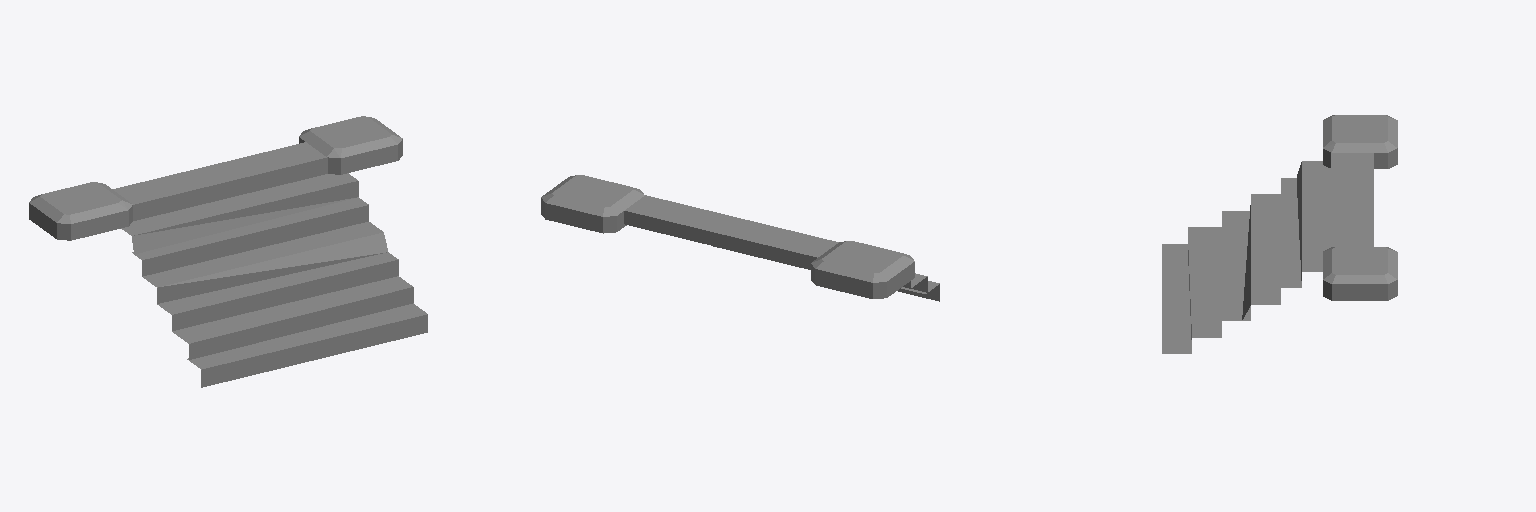
Rendered from StairsUp.obj.
The picture shows the model from 3 angles: view 1: azimuth 30°, elevation 25°; view 2: azimuth 150°, elevation 25°; view 3: azimuth 270°, elevation 25°; orthographic projection.
Visible parts, largest first — view 1: Grim_Bear_Stairs_Up.001; view 2: Grim_Bear_Stairs_Up.001; view 3: Grim_Bear_Stairs_Up.001.
Part boxes in pixels (bbox=[...]): Grim_Bear_Stairs_Up.001: bbox=[29, 116, 427, 387]; Grim_Bear_Stairs_Up.001: bbox=[541, 175, 939, 301]; Grim_Bear_Stairs_Up.001: bbox=[1162, 115, 1397, 353].
Bounding box in the file's own units: 105 × 35.61 × 62.